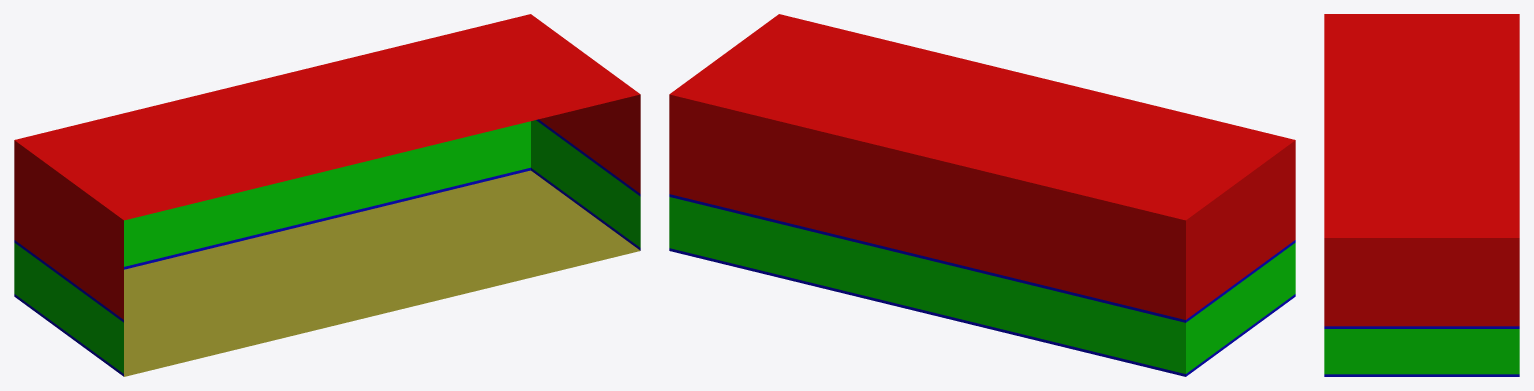
File: SM_Room10x4.fbx
The picture shows the model from 3 angles, left to right: view 1: azimuth 30°, elevation 25°; view 2: azimuth 150°, elevation 25°; view 3: azimuth 270°, elevation 25°; orthographic projection. The views are drawn at different scales.
Parts seen in each view (by area): view 1: SM_Room10x4; view 2: SM_Room10x4; view 3: SM_Room10x4.
Boxes of the visible parts, <box> form: SM_Room10x4: <box>14,14,640,376</box>; SM_Room10x4: <box>669,14,1295,376</box>; SM_Room10x4: <box>1324,14,1519,376</box>.
Bounding box in the file's own units: 950 × 275 × 350.
